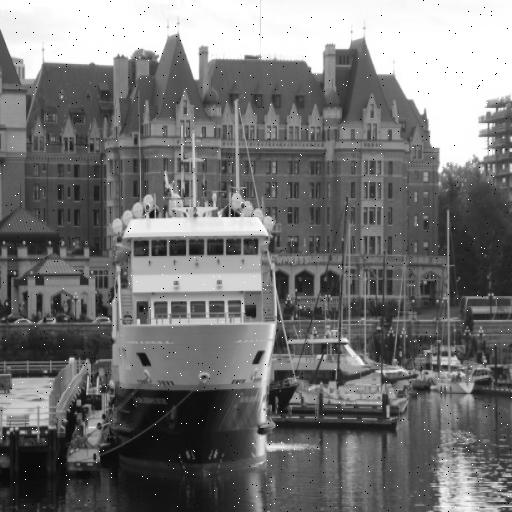cruises: (99, 131, 285, 491)
